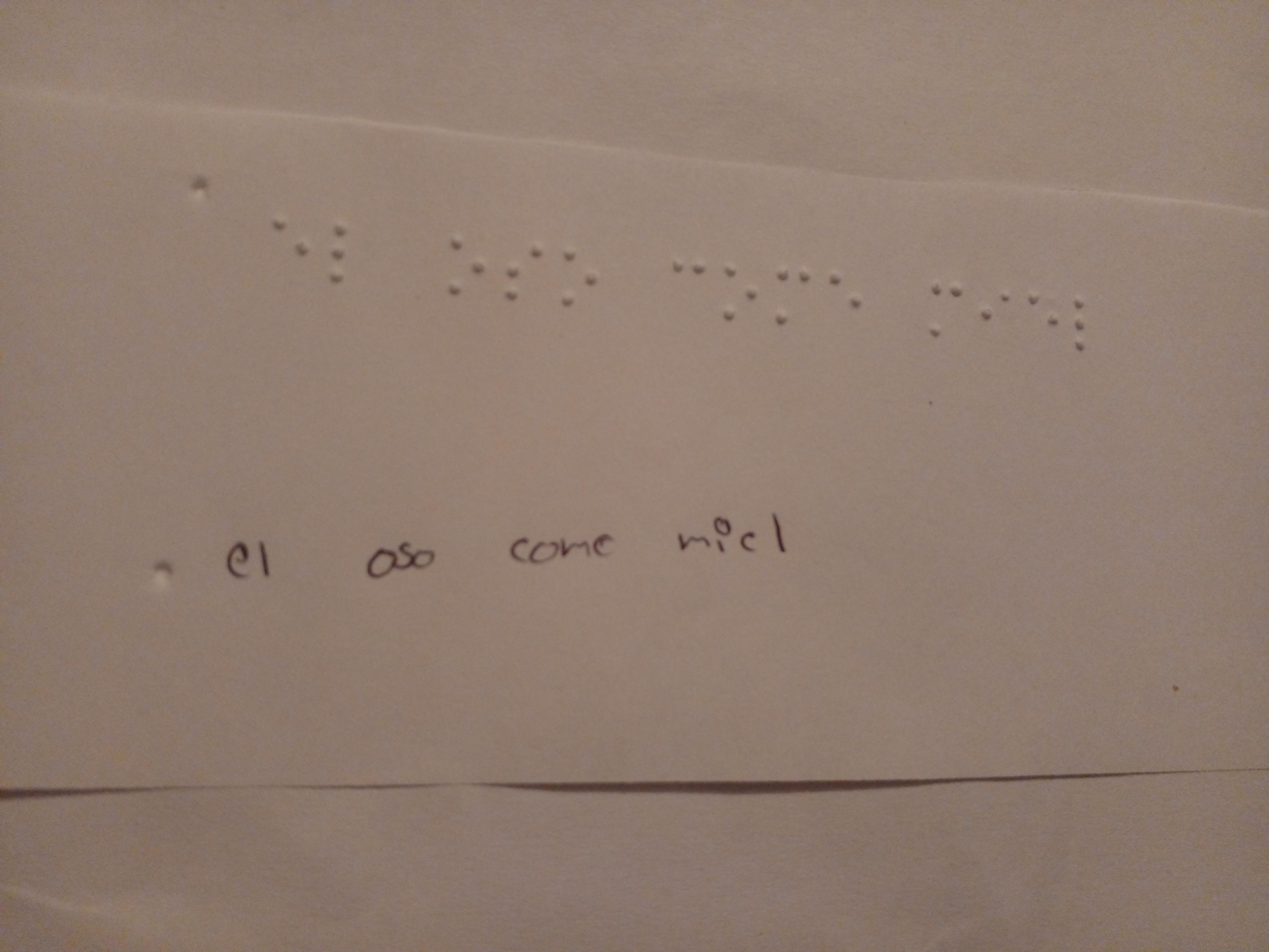c: (668, 246, 711, 307)
e: (262, 203, 314, 274), (824, 262, 871, 333), (1019, 282, 1064, 344)
i: (981, 280, 1016, 341)
l: (316, 218, 367, 296), (1067, 294, 1104, 363)
m: (922, 267, 973, 347), (773, 260, 819, 332)
o: (555, 237, 617, 324), (437, 223, 491, 311), (711, 249, 765, 330)
s: (496, 228, 548, 311)
